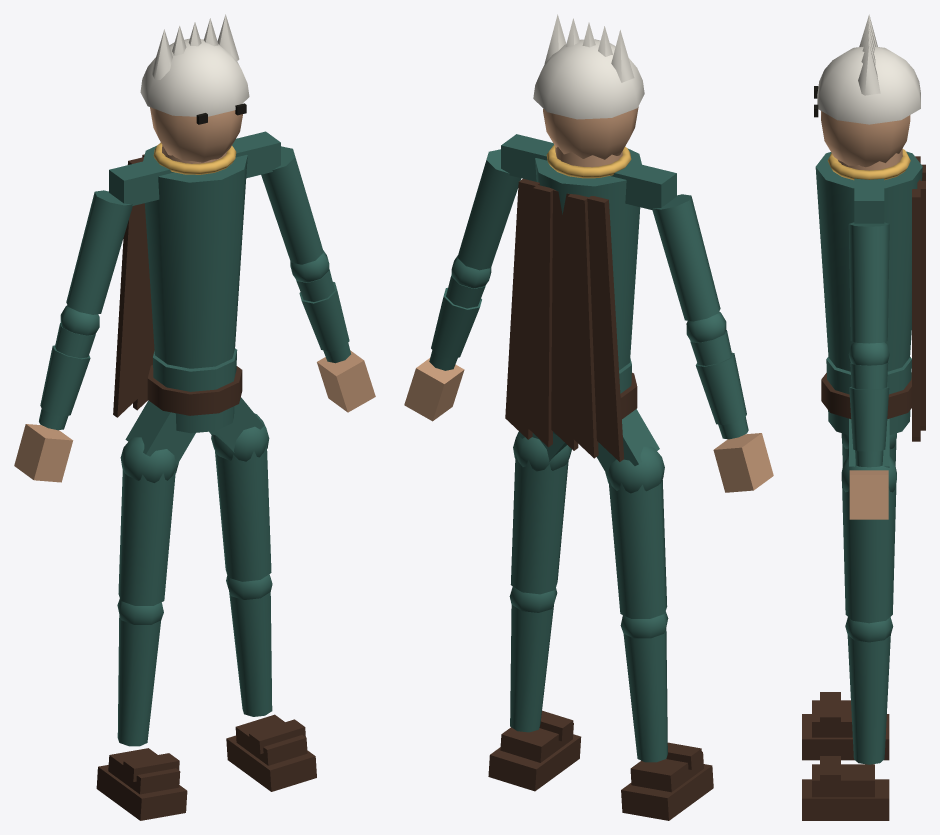
Rendered from celt-body.glb.
3 renders of one model, left to right at view 1: azimuth 30°, elevation 25°; view 2: azimuth 150°, elevation 25°; view 3: azimuth 270°, elevation 25°, orthographic. The views are drawn at different scales.
Parts seen in each view (by area): view 1: FittedTorso, Thigh-1, Thigh1, HairCrown, CapeFold0, UpperArm-1, Shin-1, Shin1, UpperArm1, ShoulderLink (×2), Face, Waist (+21 smaller); view 2: Thigh-1, Thigh1, CapeFold0, HairCrown, CapeFold1, CapeFold3, FittedTorso, UpperArm-1, CapeFold4, Shin-1, CapeFold2, Shin1 (+19 smaller); view 3: FittedTorso, HairCrown, Thigh1, UpperArm1, Shin1, Face, Sandal1, Bracer1, CapeFold4, Hand1, Waist, Foot1 (+15 smaller).
Boxes of the visible parts, x1,y1,x2,y2 form: FittedTorso: (143, 145, 247, 368); Thigh-1: (118, 469, 175, 605); Thigh1: (215, 444, 271, 581); HairCrown: (140, 38, 249, 116); CapeFold0: (113, 157, 146, 417); UpperArm-1: (66, 190, 132, 314); Shin-1: (117, 615, 160, 746); Shin1: (229, 591, 272, 716); UpperArm1: (261, 146, 323, 264); ShoulderLink (×2): (109, 131, 280, 205); Face: (150, 107, 242, 162); Waist: (152, 348, 237, 433); Thigh-1: (608, 479, 667, 618); Thigh1: (510, 454, 568, 594); CapeFold0: (587, 196, 624, 461); HairCrown: (533, 39, 644, 119); CapeFold1: (567, 194, 598, 458); CapeFold3: (525, 185, 553, 447); FittedTorso: (535, 148, 641, 370); UpperArm-1: (652, 194, 720, 321); CapeFold4: (505, 178, 539, 439); Shin-1: (623, 628, 667, 762); CapeFold2: (551, 189, 578, 450); Shin1: (510, 603, 554, 732); FittedTorso: (815, 151, 922, 371); HairCrown: (817, 46, 920, 124); Thigh1: (842, 482, 896, 623); UpperArm1: (848, 222, 889, 343); Shin1: (847, 635, 890, 764); Face: (821, 111, 910, 167); Sandal1: (802, 779, 889, 820); Bracer1: (849, 386, 889, 451); CapeFold4: (912, 189, 920, 441); Hand1: (849, 470, 888, 519); Waist: (826, 357, 911, 435); Foot1: (812, 764, 874, 797).
Size of the model in its own units: 0.9158 by 1.93 by 0.2885.
